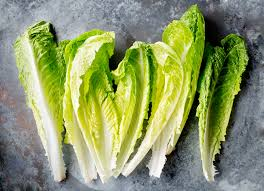Lettuce: (125, 16, 214, 188), (9, 21, 78, 176), (65, 28, 133, 180), (193, 34, 243, 186)
